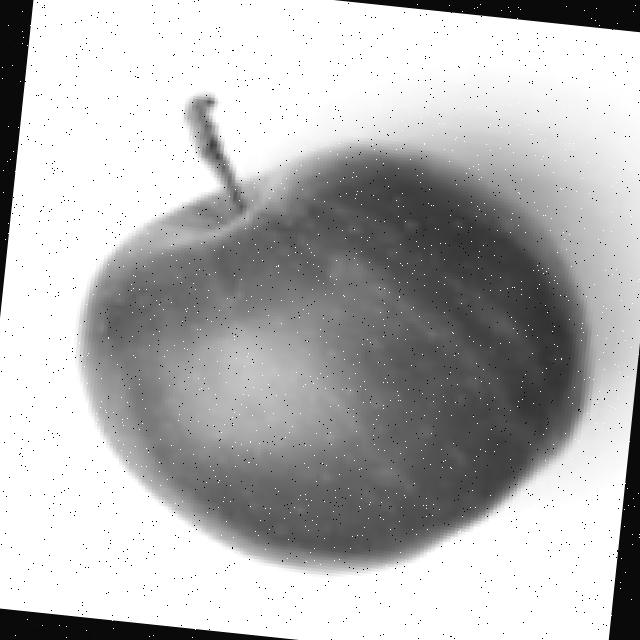Ripe: (47, 112, 616, 604)
